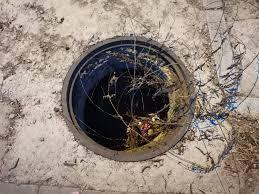wellcover: (64, 39, 192, 161)
